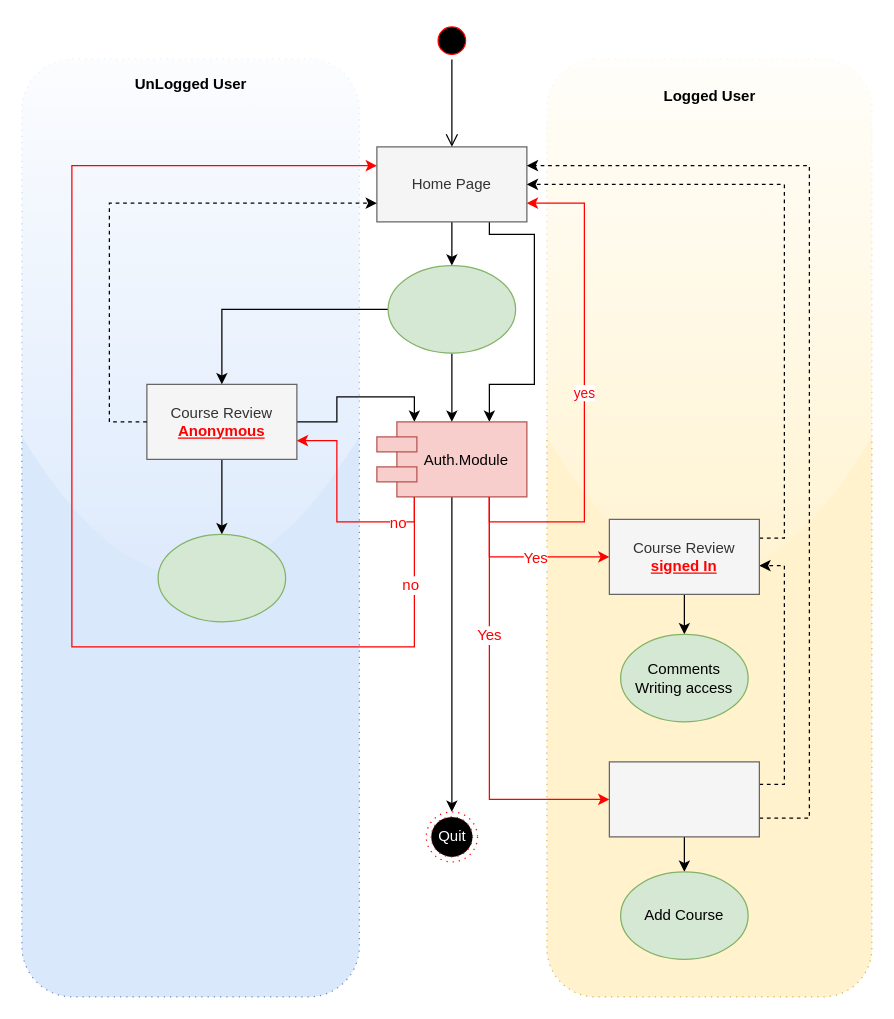
Some shapes in this 894 by 1019 pixel diagram are drawn without their labels. The shapes that lost their labels are listed below. From the top down, each one's centre as x and y in pixels, then its label:
At point 451,308: "Courses Access Granted".
At point 221,577: "Comments reading access".
At point 683,799: "Create Course".
